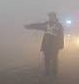person: (23, 11, 66, 78)
